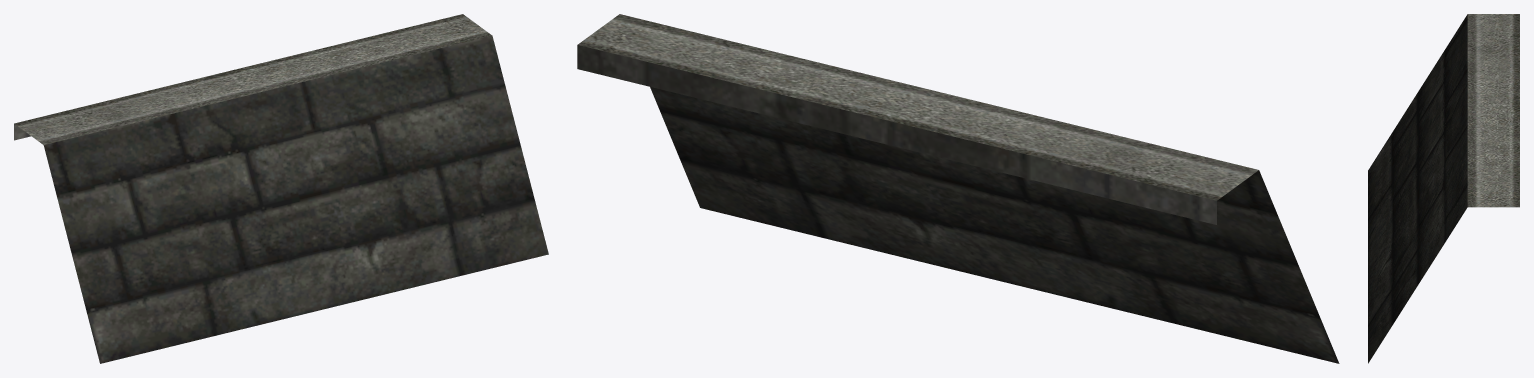
Rendered from stadium_01_02.fbx.
The picture shows the model from 3 angles, left to right: view 1: azimuth 30°, elevation 25°; view 2: azimuth 150°, elevation 25°; view 3: azimuth 270°, elevation 25°; orthographic projection. The views are drawn at different scales.
Visible parts, largest first — view 1: stadium_01_02; view 2: stadium_01_02; view 3: stadium_01_02.
Boxes of the visible parts, box(x1,y1,x2,y2) form: stadium_01_02: box(14, 14, 548, 363); stadium_01_02: box(577, 14, 1339, 363); stadium_01_02: box(1368, 14, 1519, 363).
Bounding box in the file's own units: 10 × 3.78 × 3.32.
